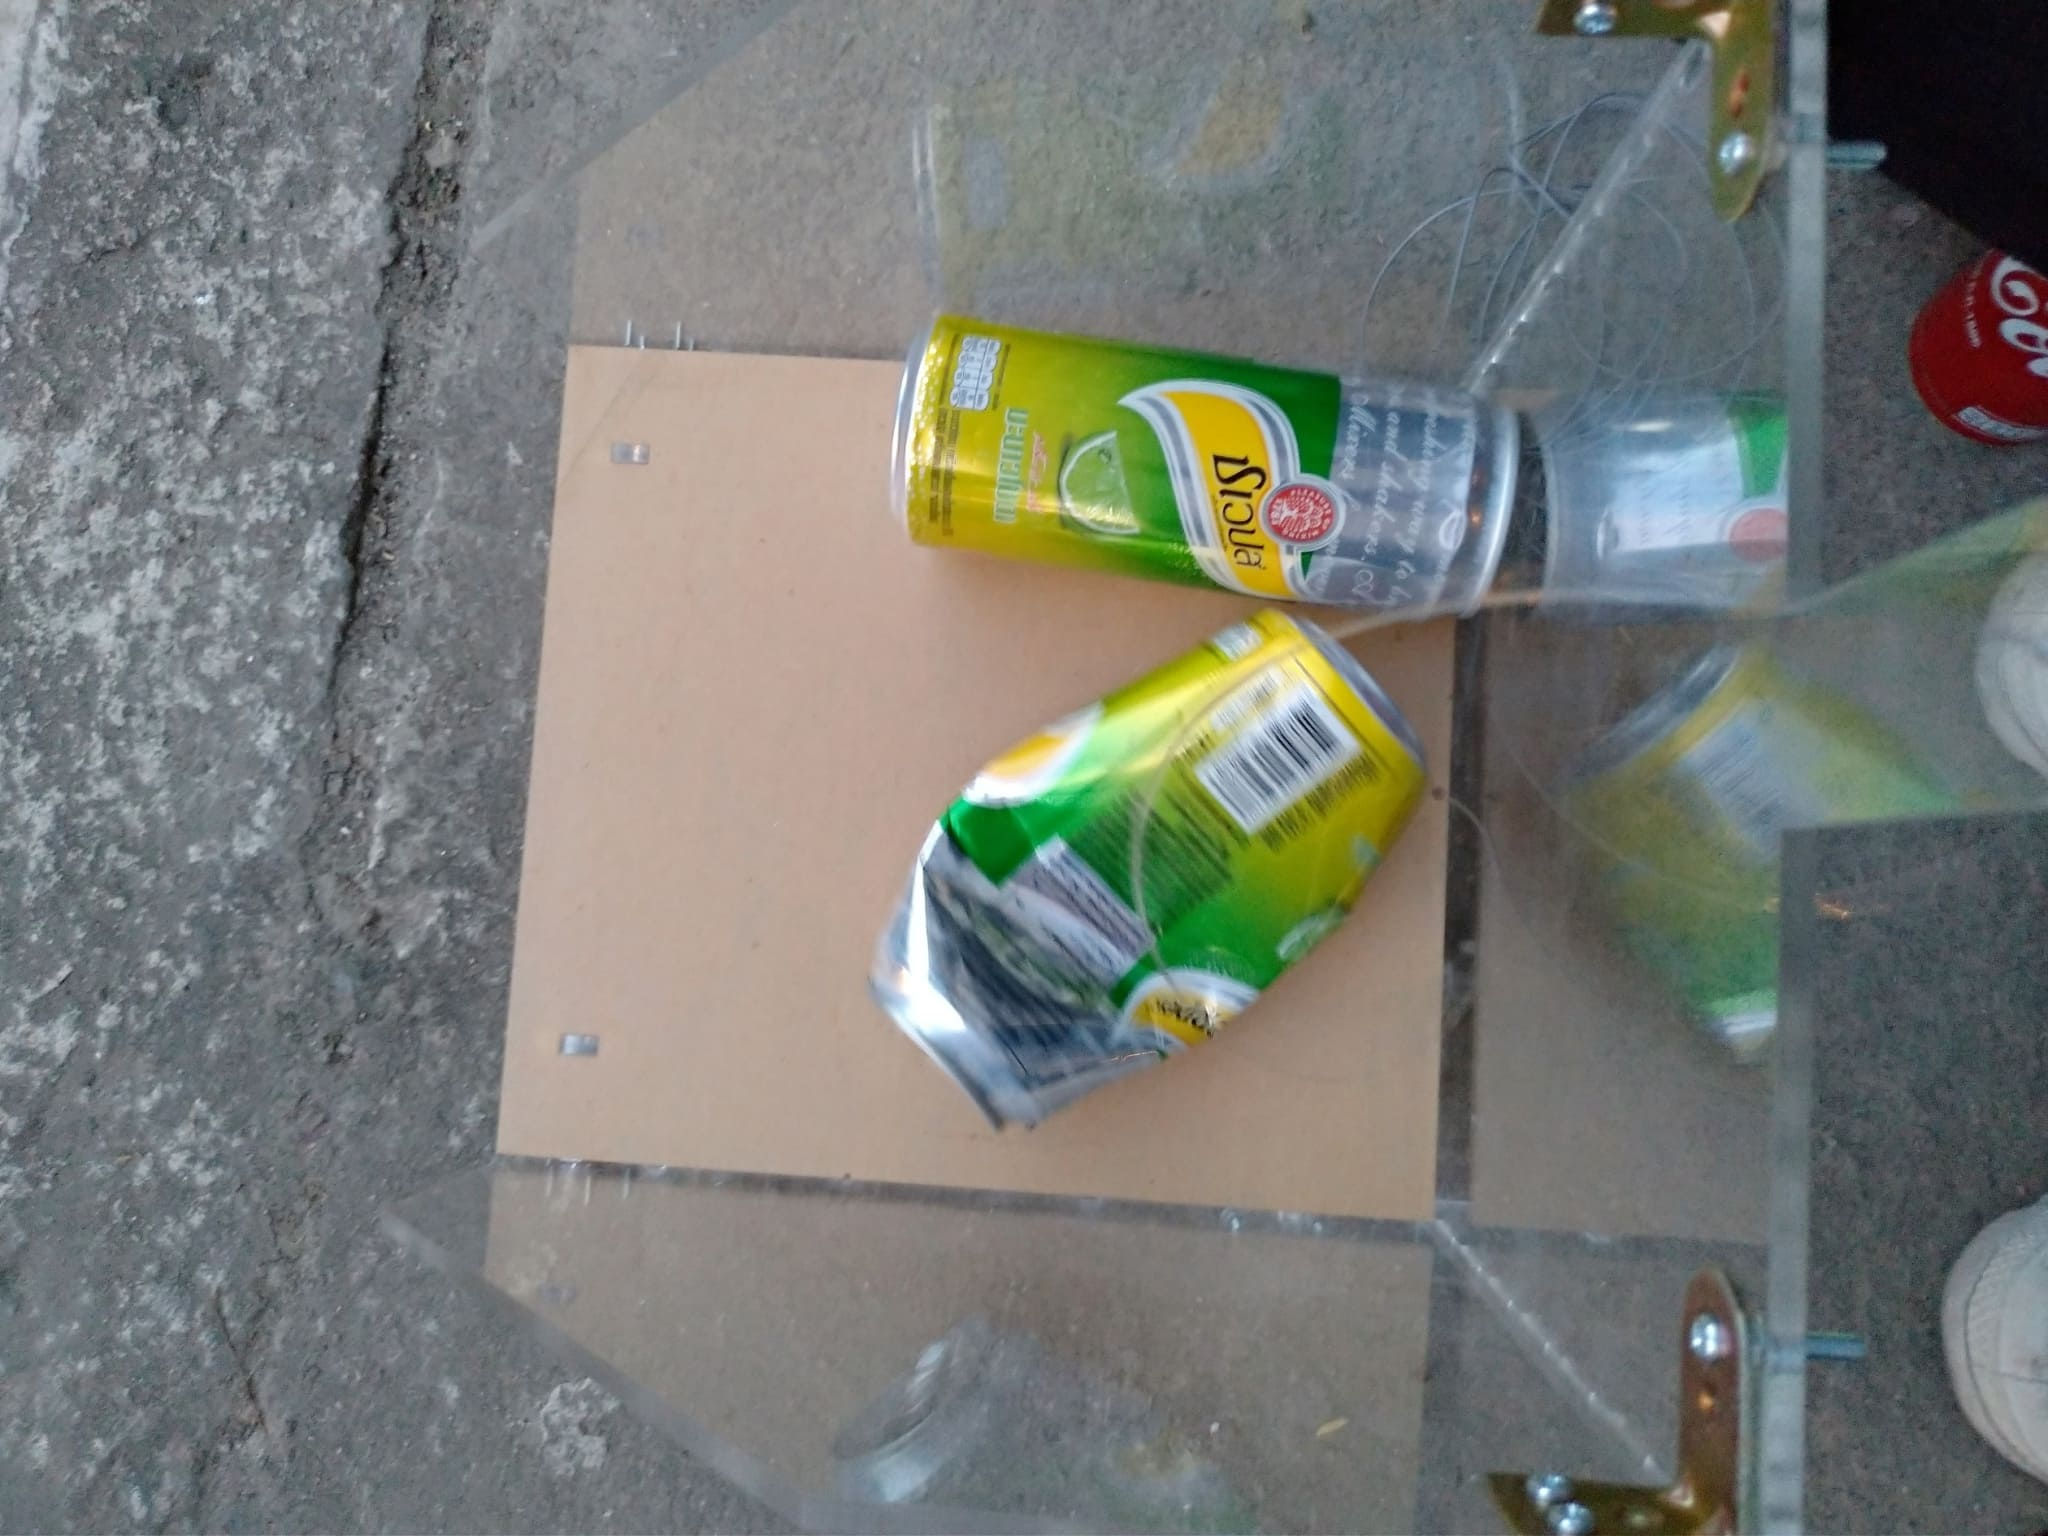AlCan: (885, 623, 1435, 1150), (885, 316, 1509, 623), (1517, 373, 1801, 624), (1913, 226, 2048, 452)
